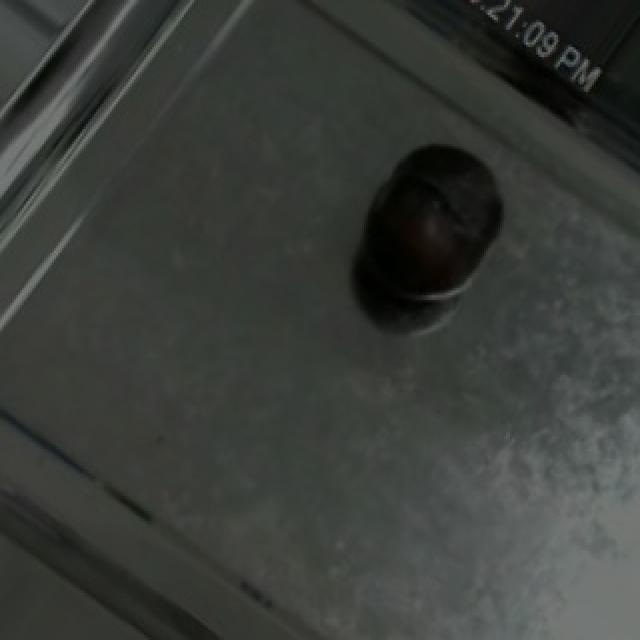Fruit: (350, 121, 528, 322)
